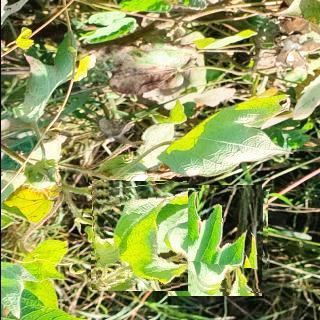curl: (162, 188, 267, 293), (90, 180, 187, 291)
